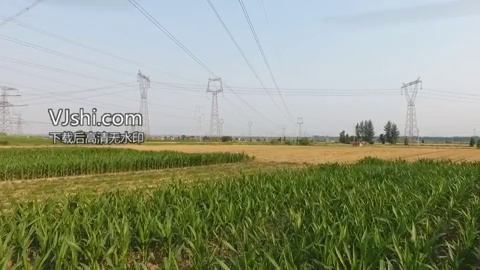tower_body: (397, 73, 426, 148), (131, 68, 156, 142), (202, 71, 228, 137)
tower_foot: (403, 124, 422, 145), (210, 118, 221, 134)
tower_head: (398, 77, 425, 104), (134, 68, 153, 95), (205, 74, 225, 95)
